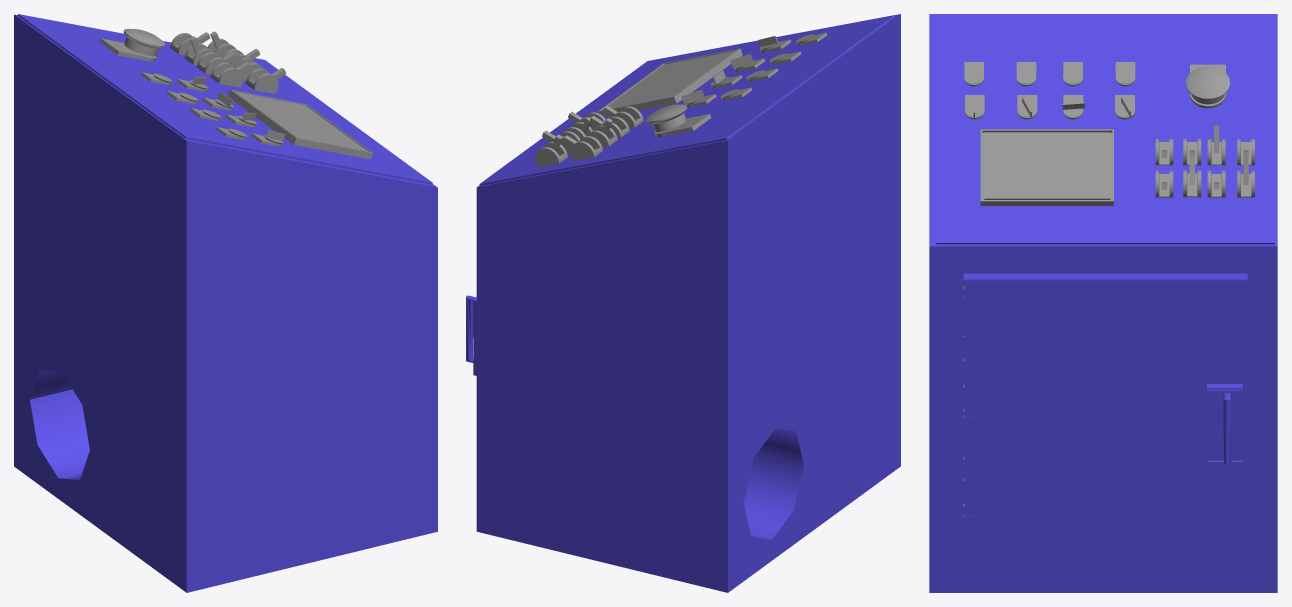
File: ControlPanel.FBX
3 views of the same model, side by side, from view 1: azimuth 30°, elevation 25°; view 2: azimuth 150°, elevation 25°; view 3: azimuth 270°, elevation 25° (orthographic).
Visible parts, largest first — view 1: Control_Panel; view 2: Control_Panel; view 3: Control_Panel.
Boxes of the visible parts, left/top/right/bottom form: Control_Panel: left=14, top=14, right=437, bottom=592; Control_Panel: left=466, top=14, right=900, bottom=592; Control_Panel: left=929, top=14, right=1277, bottom=592.
Size of the model in its own units: 65.84 by 99.56 by 68.83.
